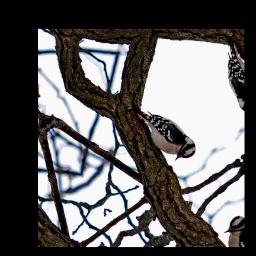Woodpecker: (124, 90, 200, 176)
